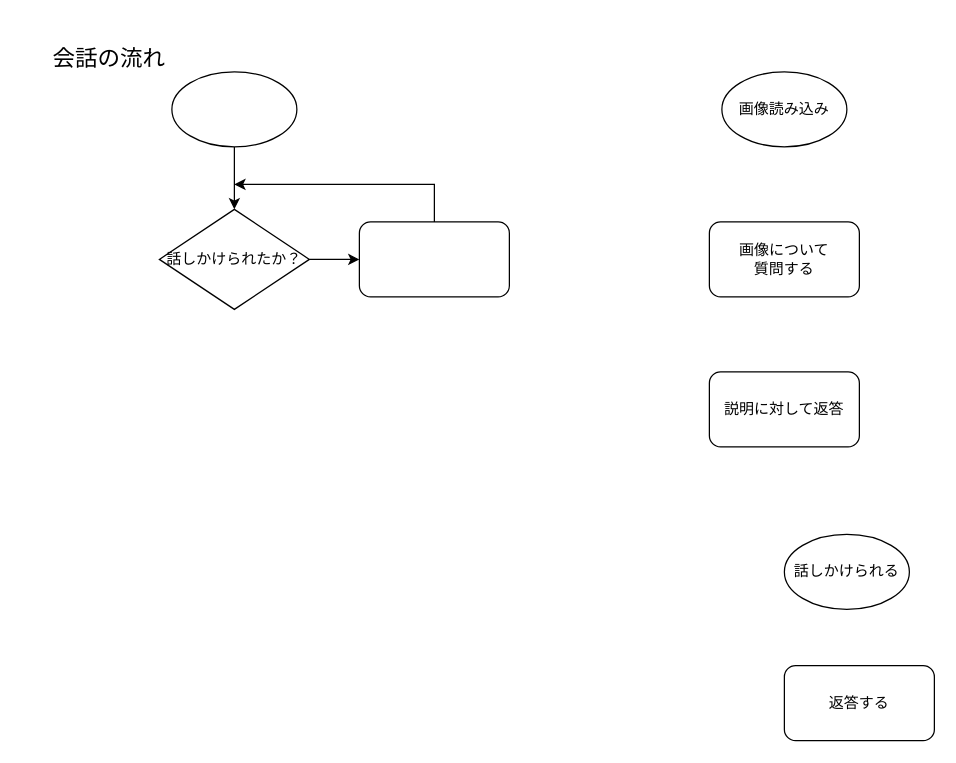
This 956x763 diagram has some shape labels left out. The shapes that lost their labels are listed below. From the top down, each one's centre as x and y in pixels, then its label:
At pixel 234 109: "開始".
At pixel 433 259: "会話待機".
